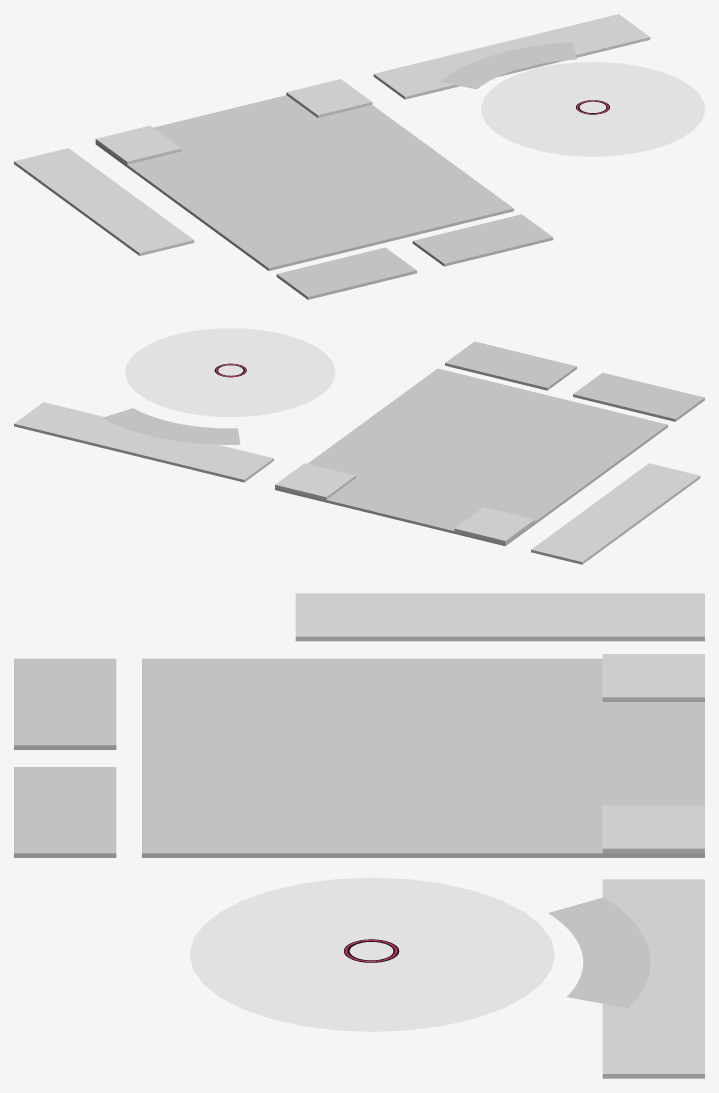
File: 0402palette.gltf
3 views of the same model, one above another, from view 1: azimuth 30°, elevation 25°; view 2: azimuth 150°, elevation 25°; view 3: azimuth 270°, elevation 25° (orthographic). The views are drawn at different scales.
Visible parts, largest first — view 1: hue, search, description, button7, button8, button9, button4, button1, button5, button2, button3, button6 (+9 smaller); view 2: hue, search, description, button4, button7, button9, button8, button5, button2, button6, stop, run (+9 smaller); view 3: hue, search, description, button3, button6, button9, button1, button7, button2, button8, button4, button5 (+9 smaller).
Part boxes in pixels (x1,y1,x2,y2): hue: (481,62,704,156); search: (373,14,650,99); description: (95,95,317,167); button7: (221,214,350,270); button8: (303,194,432,250); button9: (385,174,513,230); button4: (174,179,302,236); button1: (127,145,255,201); button5: (256,159,384,213); button2: (209,125,337,179); button3: (291,105,419,159); button6: (338,139,466,193); hue: (125,328,335,416); search: (14,402,273,482); description: (275,478,534,546); button4: (503,438,623,491); button7: (547,406,667,459); button9: (393,368,513,419); button8: (470,387,590,438); button5: (426,419,546,470); button2: (382,452,502,502); button6: (349,401,469,451); stop: (445,341,576,390); run: (573,372,704,421); hue: (189,877,554,1031); search: (602,879,704,1078); description: (602,702,704,857); button3: (449,788,602,857); button6: (295,788,448,857); button9: (142,788,295,857); button1: (449,658,602,723); button7: (142,658,295,723); button2: (449,723,602,788); button8: (142,723,295,788); button4: (295,658,448,723); button5: (295,723,448,788).
Size of the model in its own units: 0.37 by 0.00923 by 0.225.
Materials: 10 (1 with a texture image).
